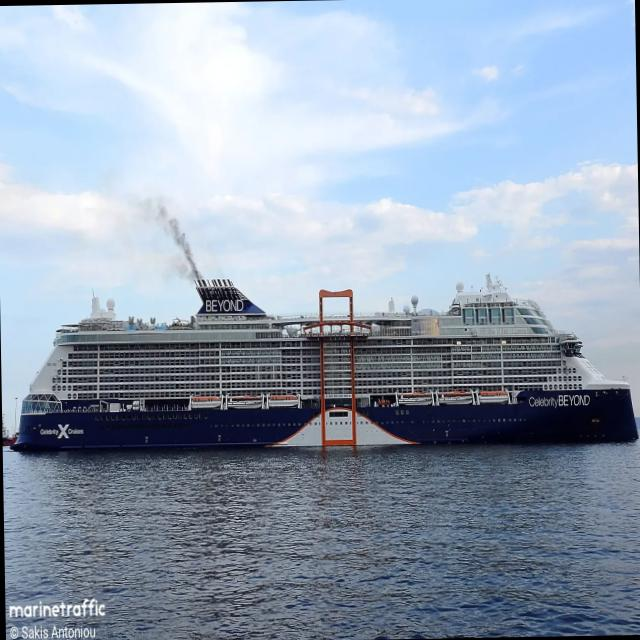Cruise: (13, 271, 637, 449)
